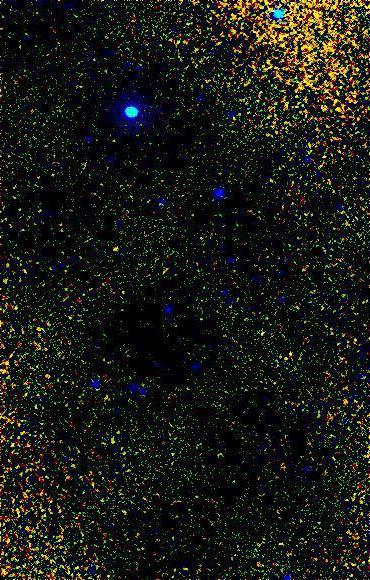star: (98, 232, 128, 262)
